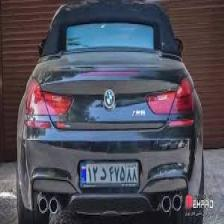plate: (78, 159, 140, 189)
